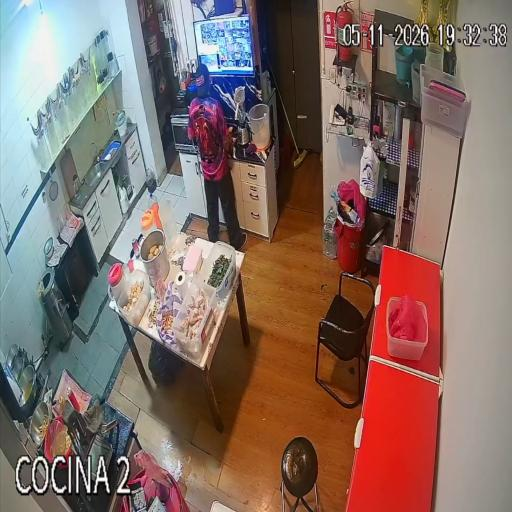Balde: (249, 103, 271, 150)
Envase Ketchup: (67, 387, 79, 411)
Envase Llajua: (59, 396, 66, 408)
Jarra1: (108, 263, 126, 300)
Jarra2: (141, 210, 157, 236)
Jarra3: (158, 195, 178, 247)
JarraLicuadora: (73, 174, 81, 195)
Microondas: (171, 111, 197, 154)
Persona1: (187, 64, 247, 250)
Taper: (202, 242, 236, 302)
Taper2: (172, 278, 216, 358)
Taper3: (117, 270, 151, 326)
Taper4: (386, 301, 428, 360), (386, 297, 399, 316)
olla1: (141, 229, 169, 287)
